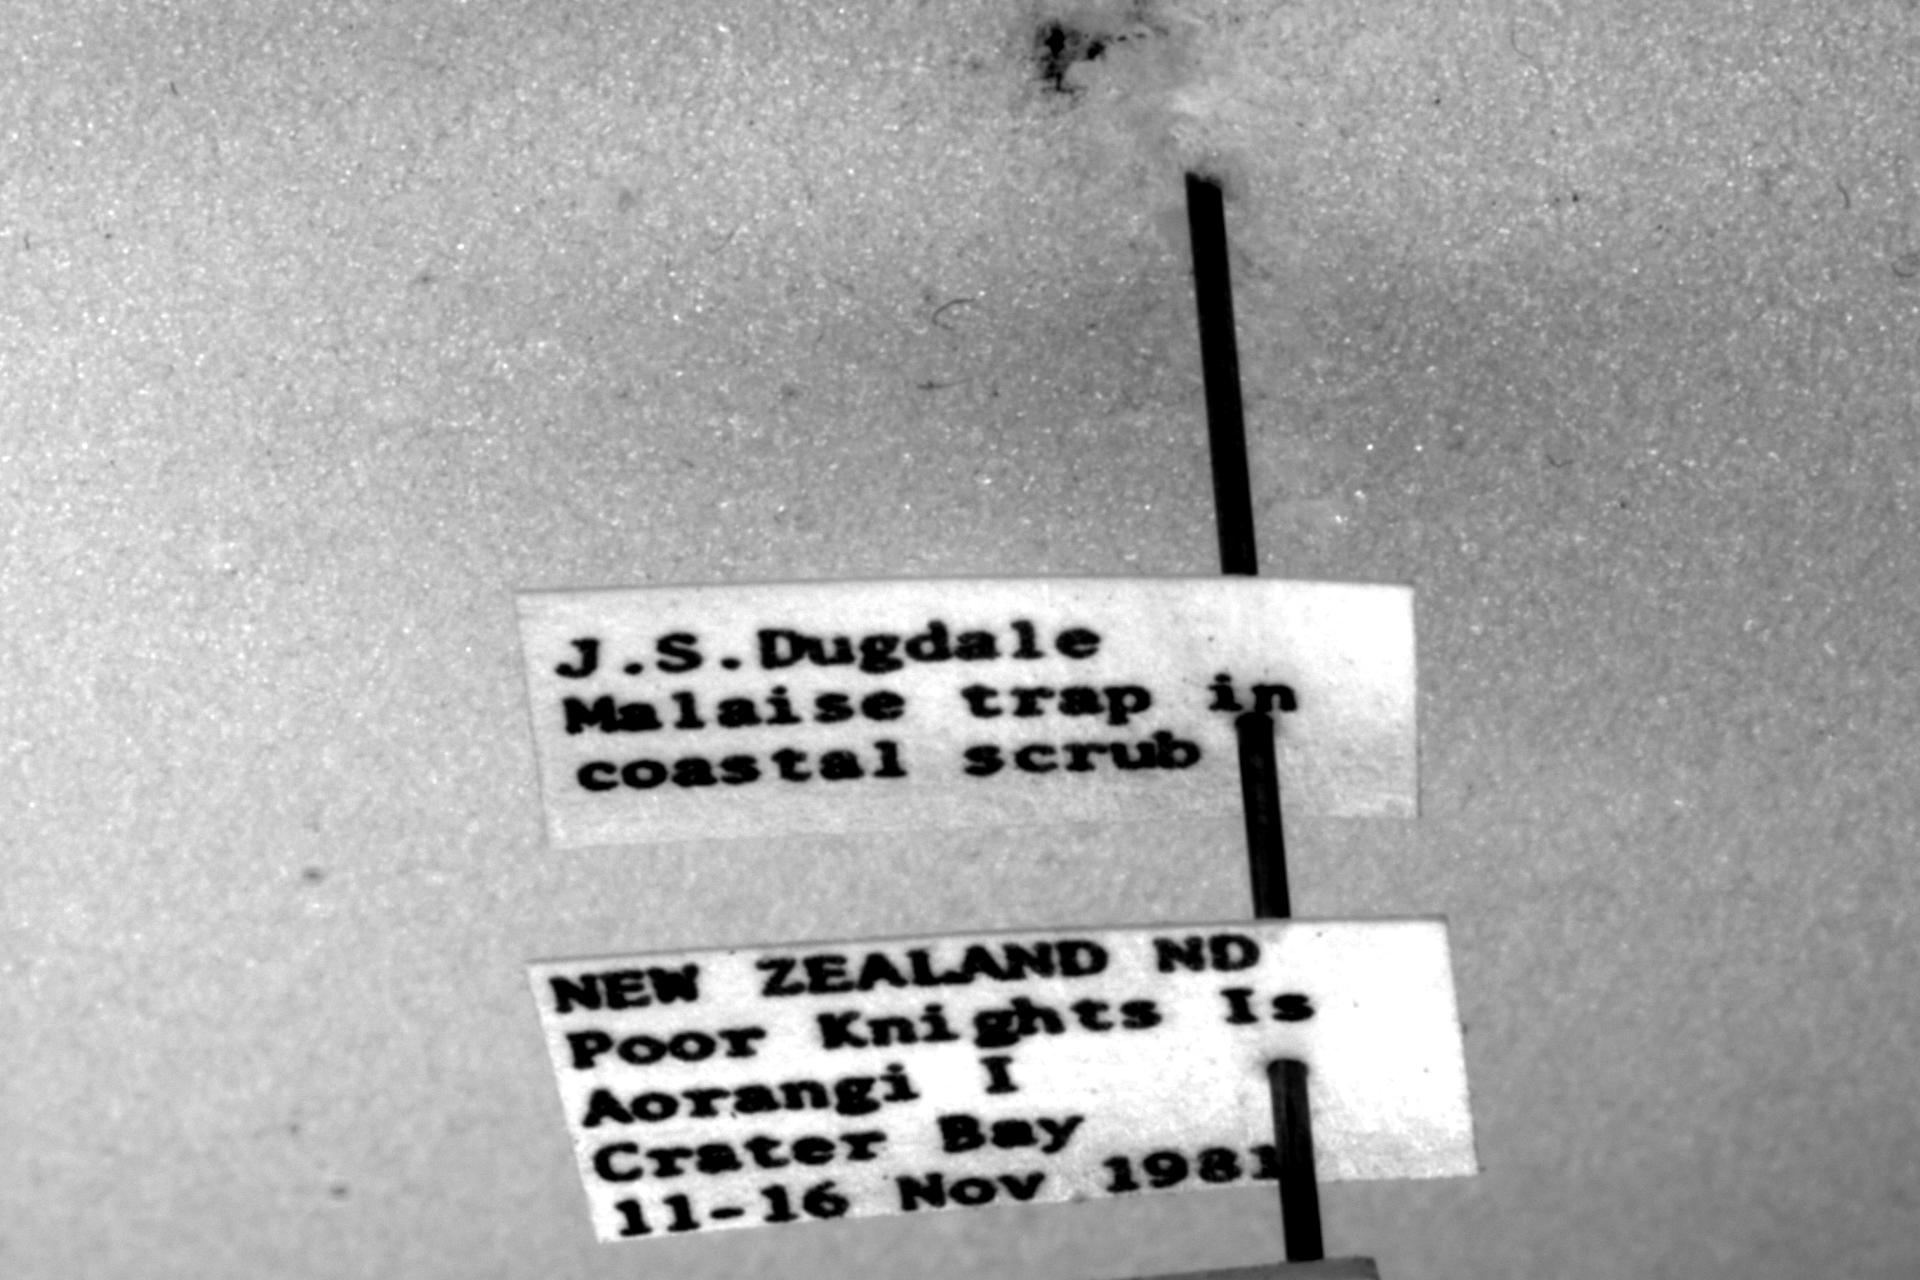typed_label: (529, 919, 1477, 1241), (517, 577, 1417, 847)
